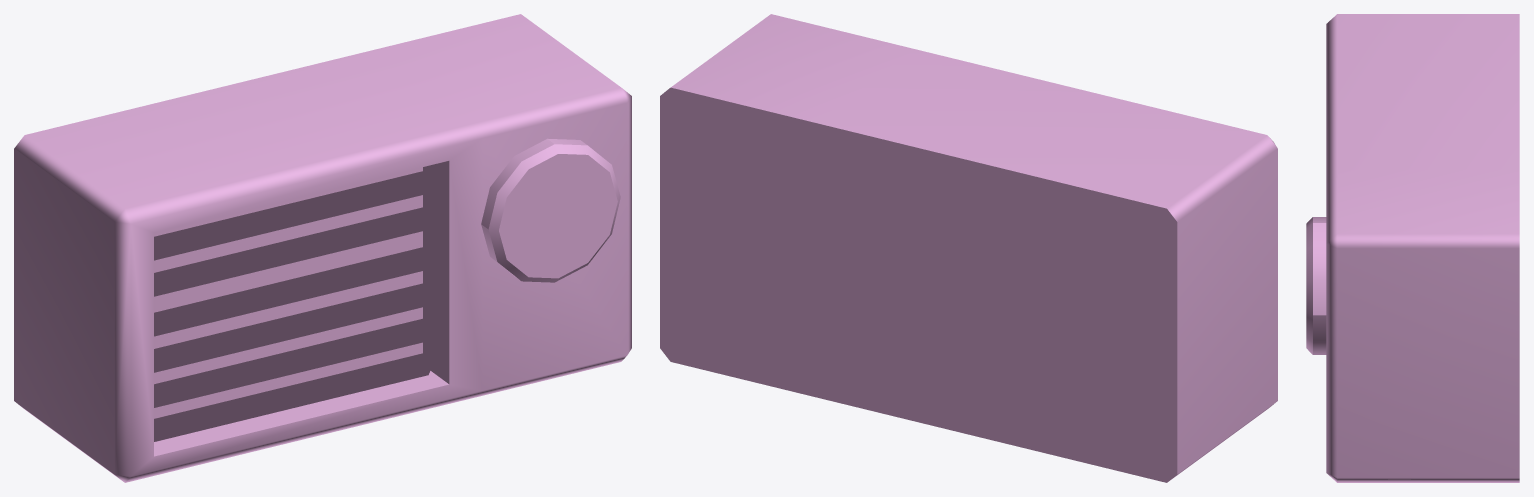
The model's file is Vent_box.fbx.
3 views of the same model, side by side, from view 1: azimuth 30°, elevation 25°; view 2: azimuth 150°, elevation 25°; view 3: azimuth 270°, elevation 25° (orthographic). The views are drawn at different scales.
Visible parts, largest first — view 1: Vent_box; view 2: Vent_box; view 3: Vent_box.
Part boxes in pixels (x1=…): Vent_box: x1=14, y1=14, x2=631, y2=482; Vent_box: x1=660, y1=14, x2=1277, y2=482; Vent_box: x1=1306, y1=14, x2=1519, y2=482.
Size of the model in its own units: 1.13 by 0.5739 by 0.4459.
